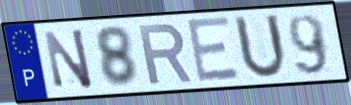8: (93, 23, 141, 90)
9: (288, 13, 331, 77)
E: (184, 15, 243, 87)
N: (41, 26, 96, 91)
R: (136, 21, 195, 86)
U: (231, 12, 289, 82)
